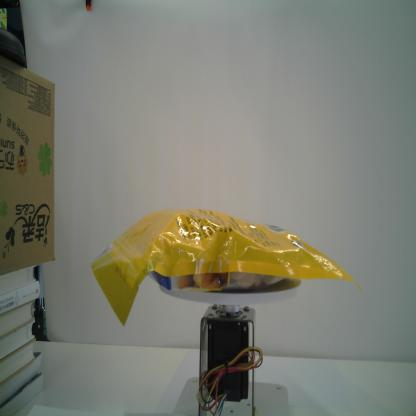Dried Food: (91, 206, 363, 327)
